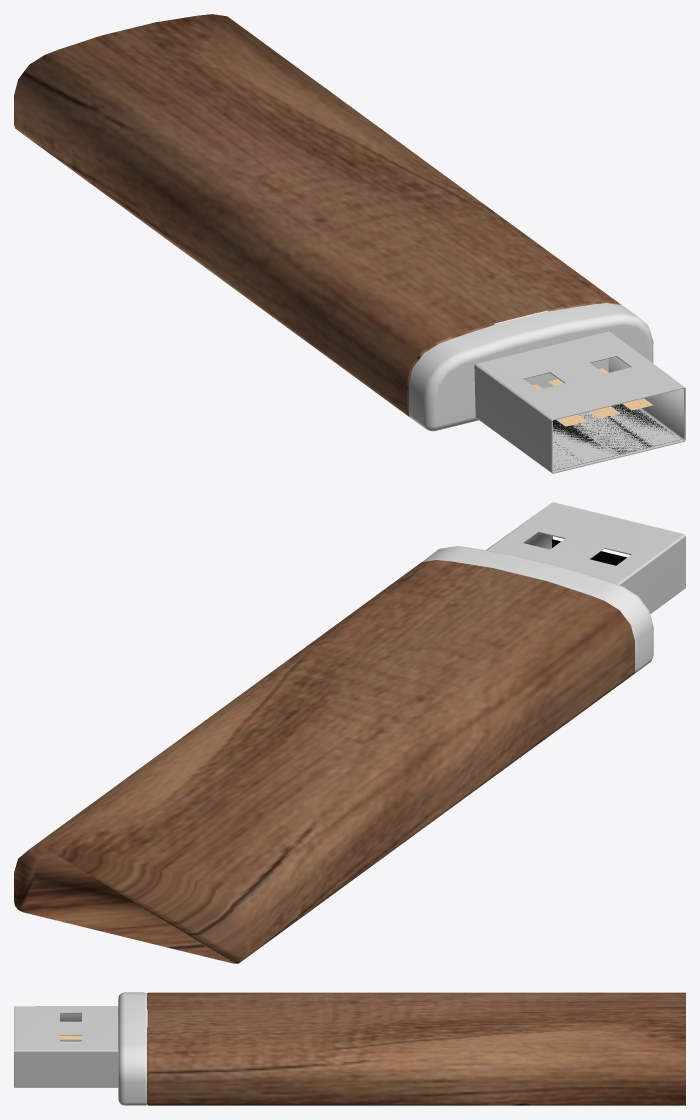
File: UsbMemory.fbx
3 views of the same model, one above another, from view 1: azimuth 30°, elevation 25°; view 2: azimuth 150°, elevation 25°; view 3: azimuth 270°, elevation 25° (orthographic). The views are drawn at different scales.
Parts seen in each view (by area): view 1: Cube.001; view 2: Cube.001; view 3: Cube.001.
Part boxes in pixels (<box>): Cube.001: <box>14,14,685,473</box>; Cube.001: <box>14,502,685,963</box>; Cube.001: <box>14,992,685,1105</box>.
Size of the model in its own units: 2.05 by 0.6513 by 7.62.
Materials: 5 (1 with a texture image).
